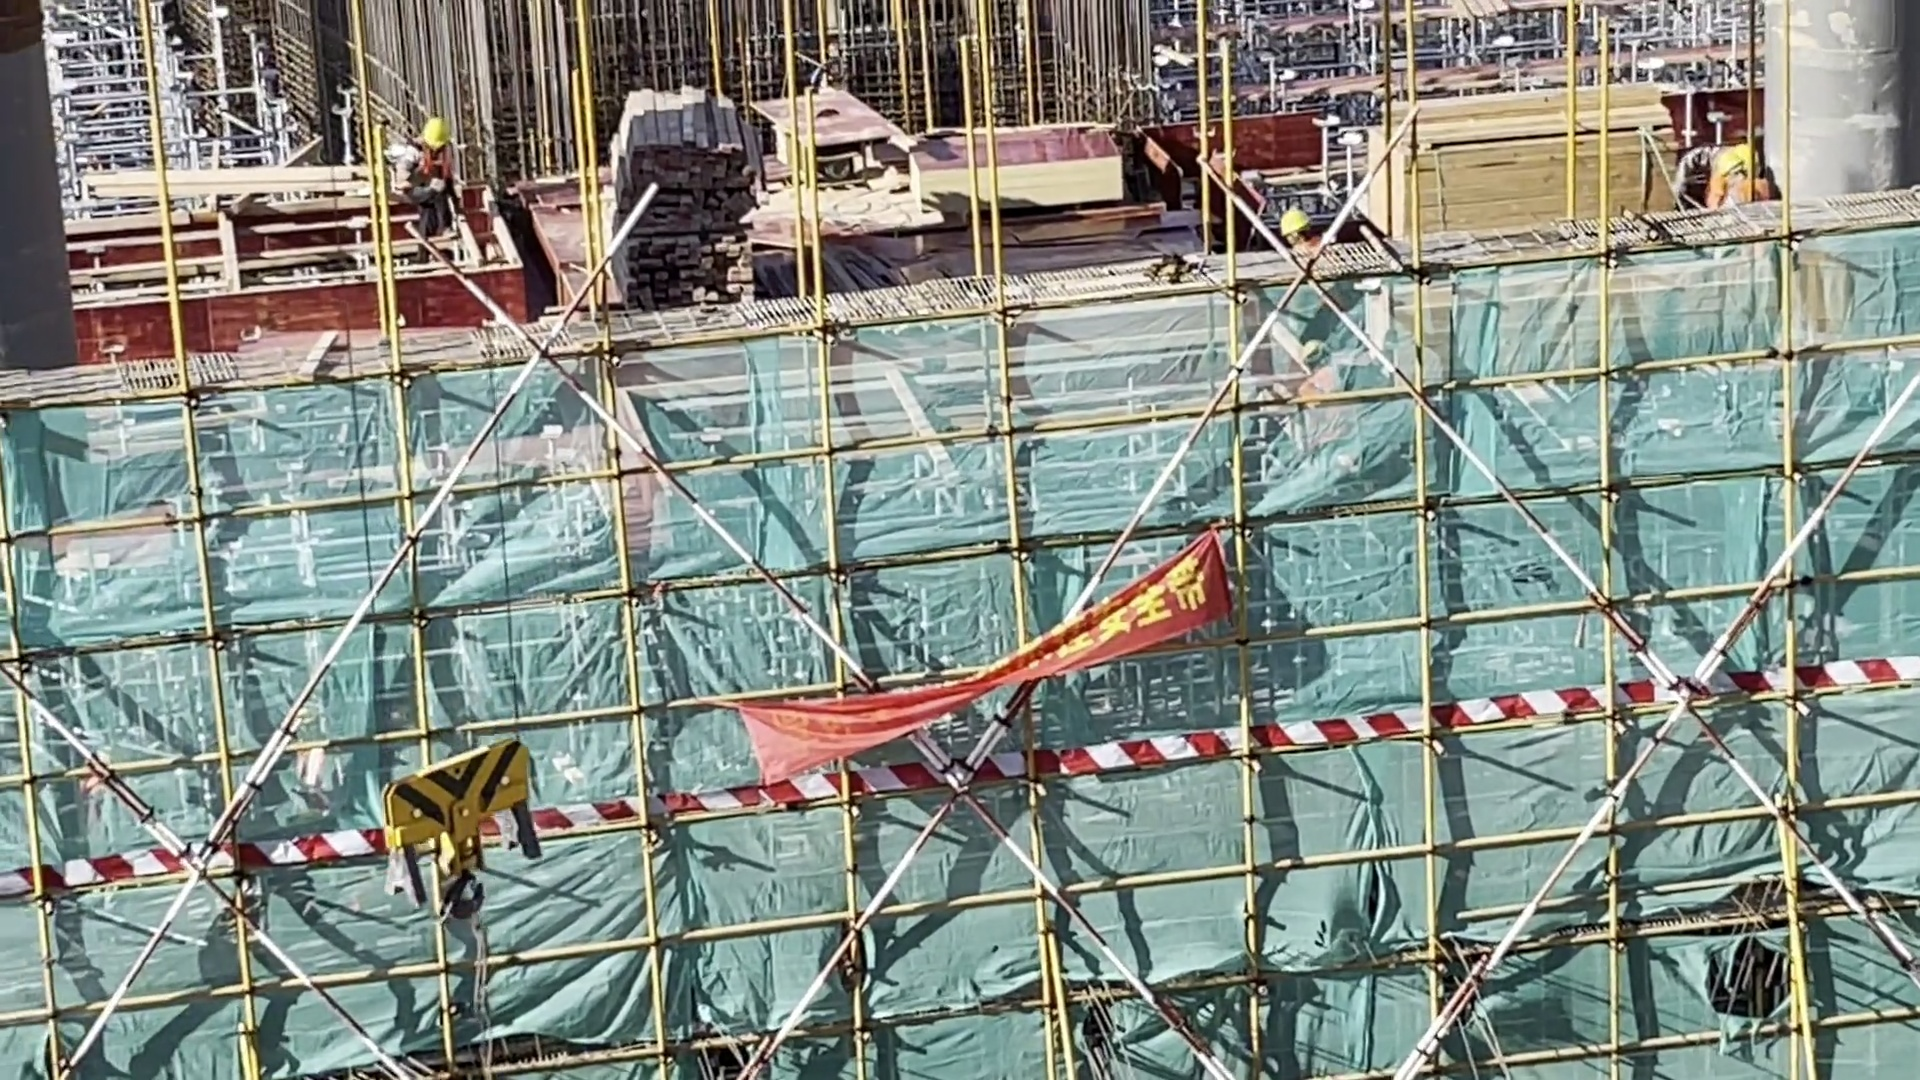cutter: (798, 101, 852, 129)
helmet: (417, 114, 453, 149)
hook: (383, 721, 551, 920)
person: (402, 112, 469, 273), (1691, 143, 1775, 212), (1269, 193, 1334, 262)
slogan: (720, 521, 1245, 791)
wood: (1371, 73, 1681, 244), (598, 74, 767, 315)
